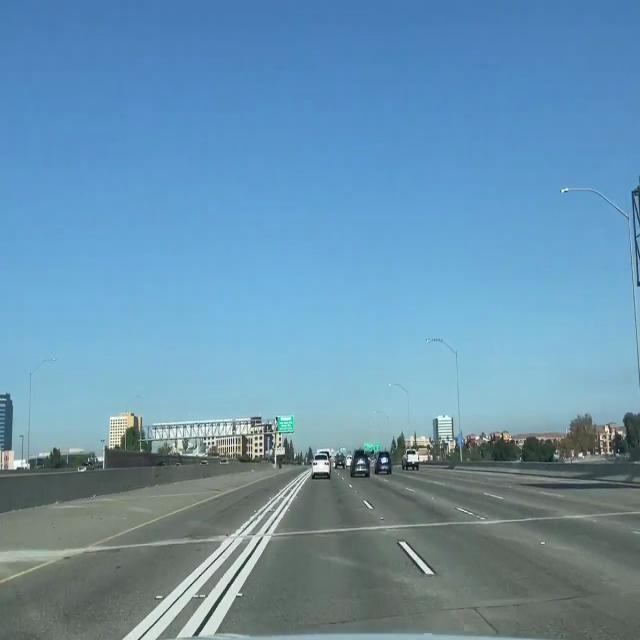street-signs: (278, 415, 294, 434), (364, 442, 374, 454), (375, 443, 381, 453)
